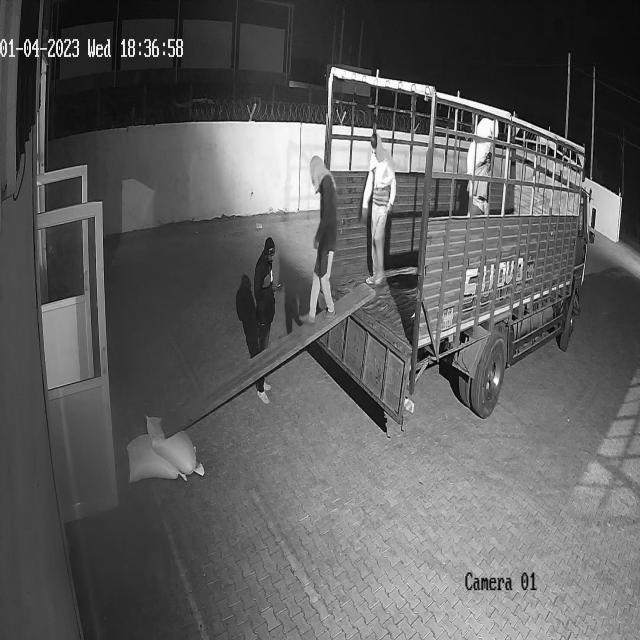sack: (145, 413, 204, 475), (124, 433, 186, 483), (466, 116, 499, 172)
